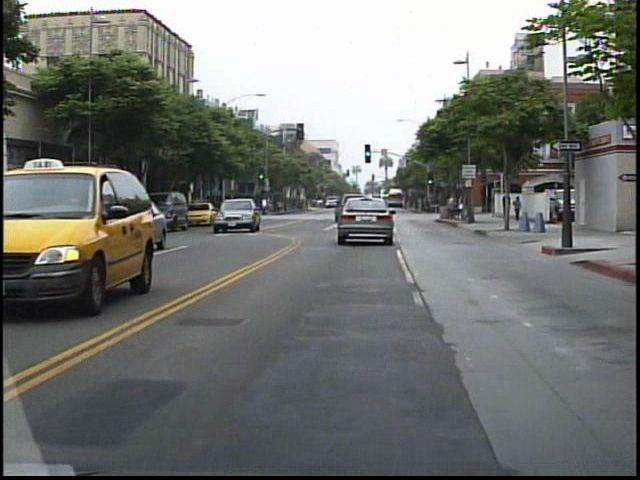person: (498, 187, 513, 226), (442, 189, 460, 220), (510, 192, 522, 224), (261, 194, 271, 219)
